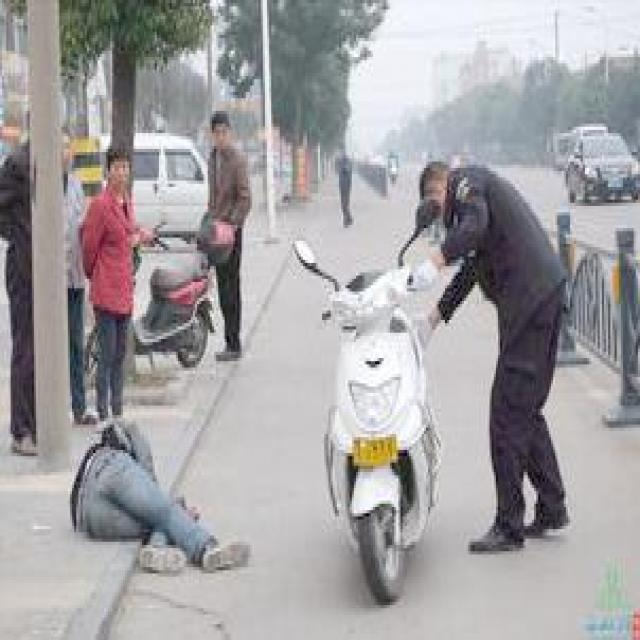fall: (68, 415, 224, 567)
